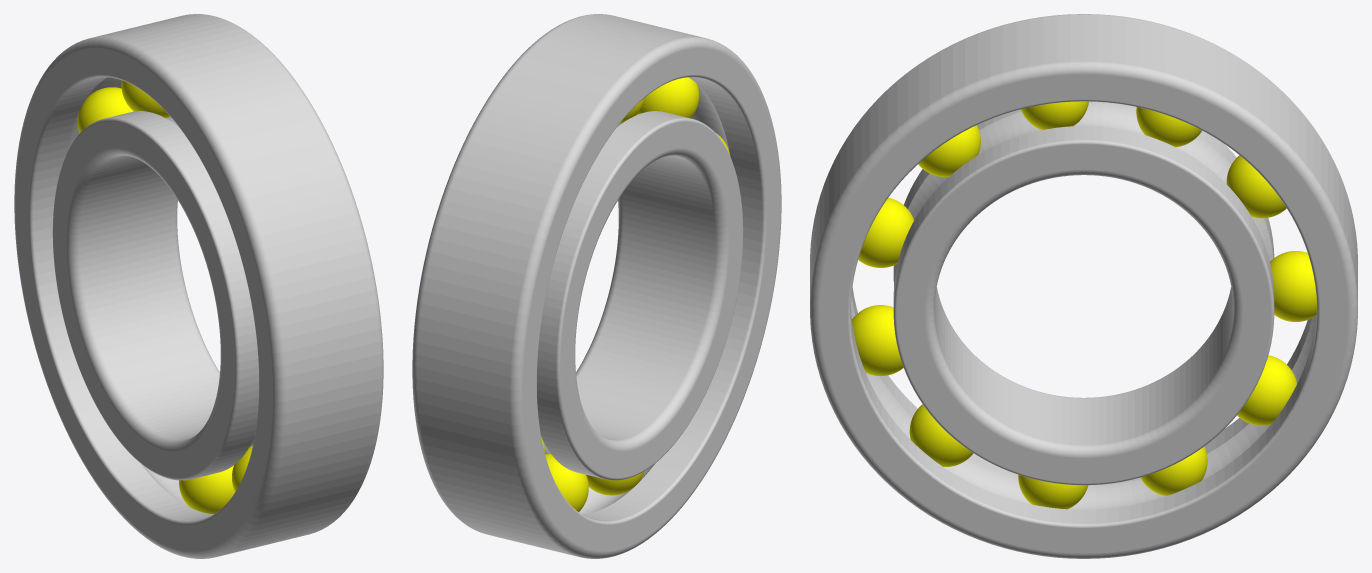
File: model_web.glb
3 renders of one model, left to right at view 1: azimuth 30°, elevation 25°; view 2: azimuth 150°, elevation 25°; view 3: azimuth 270°, elevation 25°, orthographic. The views are drawn at different scales.
Parts seen in each view (by area): view 1: Node1, Node2; view 2: Node1, Node2; view 3: Node1, Node2.
Part boxes in pixels (x1,y1,x2,y2): Node1: (14, 14, 383, 558); Node2: (77, 80, 252, 514); Node1: (412, 14, 781, 558); Node2: (541, 77, 730, 511); Node1: (810, 14, 1357, 558); Node2: (852, 101, 1316, 509).
Bounding box in the file's own units: 13 × 55 × 54.98.
